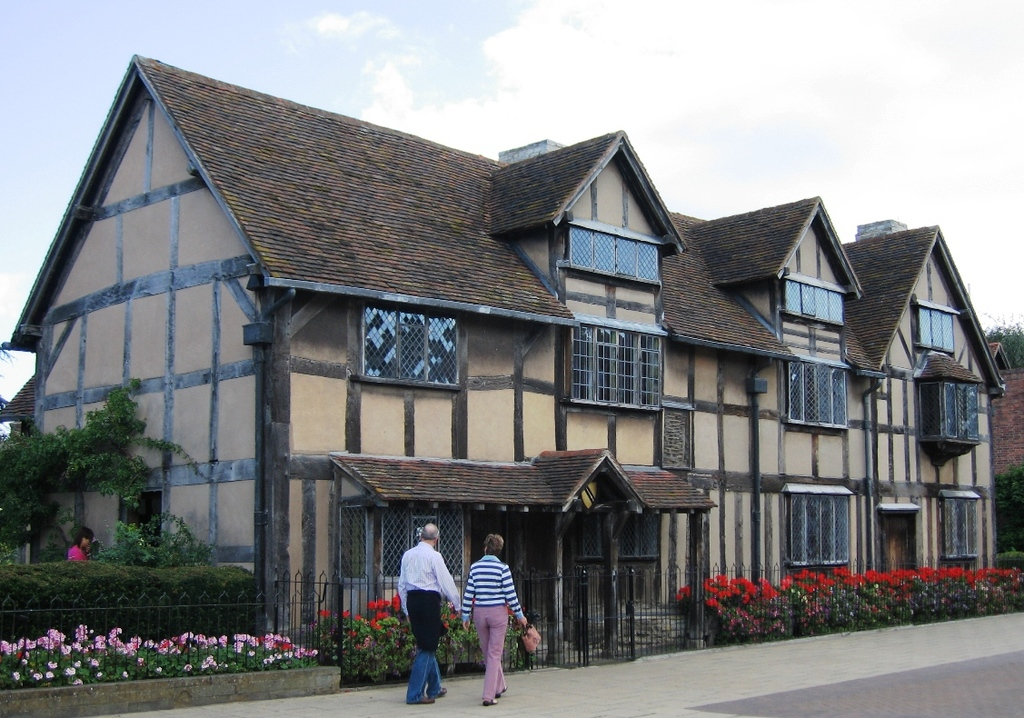Tree: (982, 313, 1023, 369)
